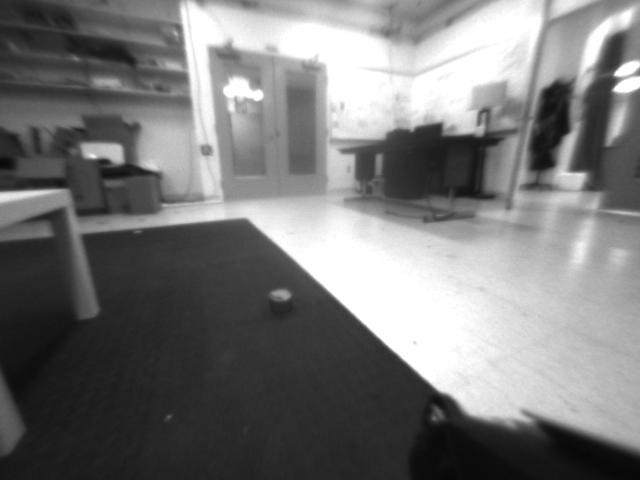dogtoy: (249, 277, 304, 321)
